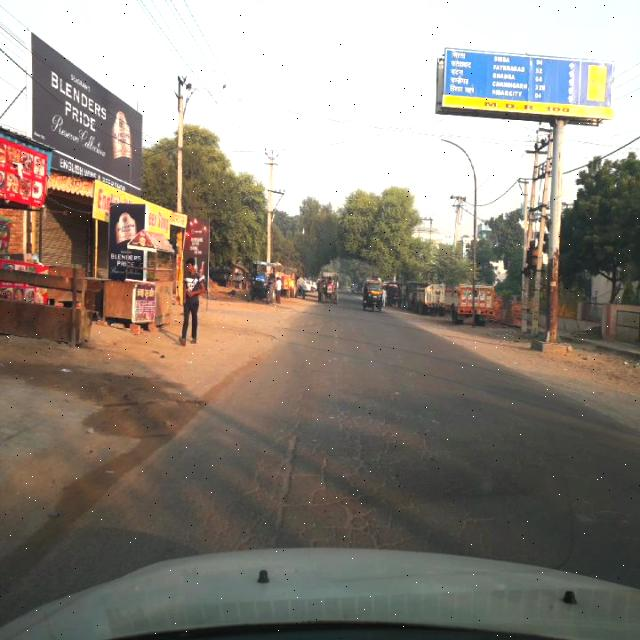D20: (237, 386, 473, 540)
